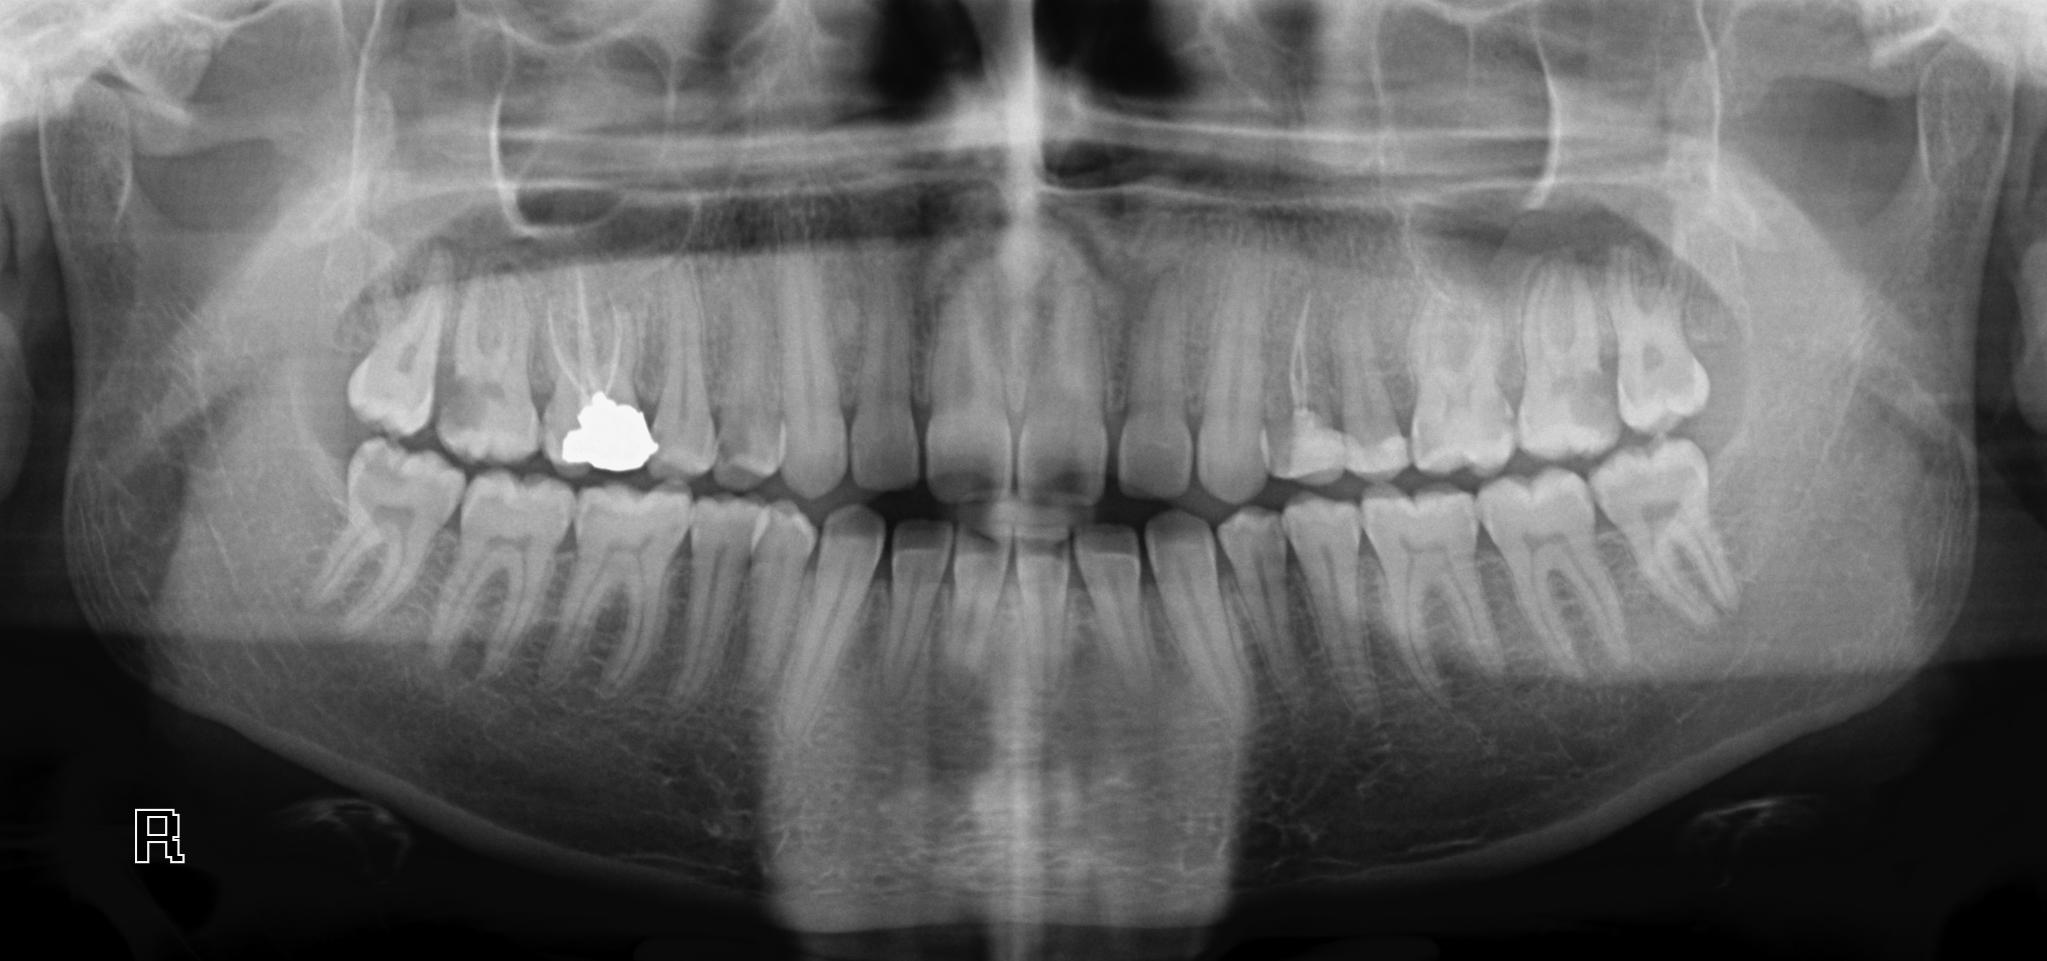Cavity: (807, 503, 886, 680), (1073, 520, 1148, 687), (881, 511, 954, 679)
Implant: (533, 266, 658, 477)
